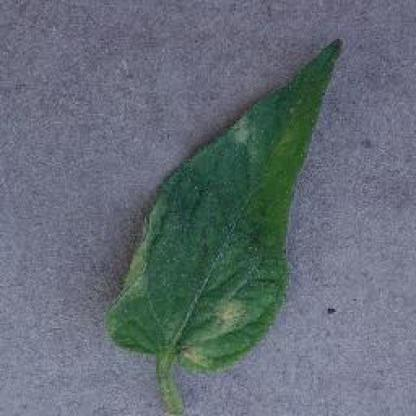Tomato_Leaf_Mold: (109, 40, 343, 364)
